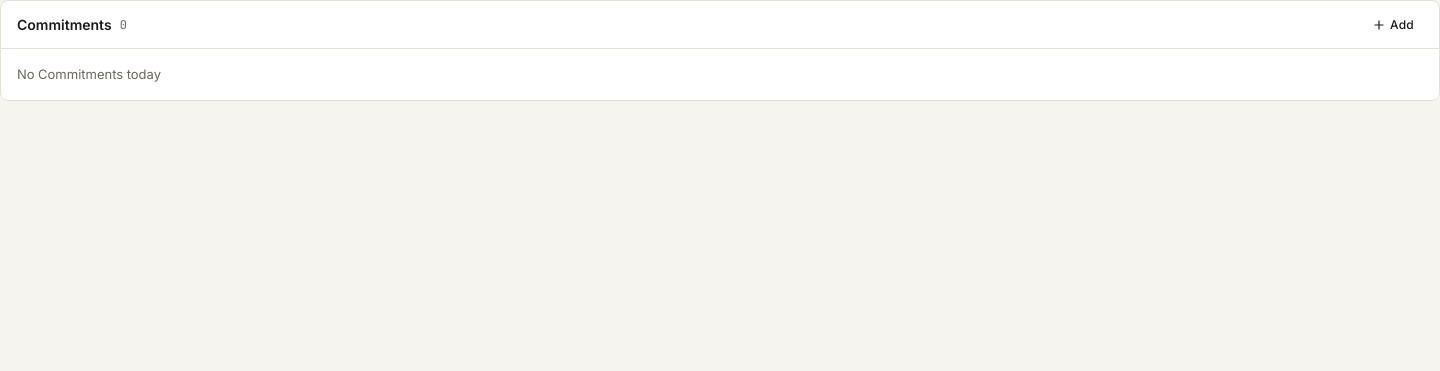
Test case: CommitmentsPanel › explains an overlap in plain English
Click the button "Add" at (1393, 24), box [1363, 10, 1423, 38]
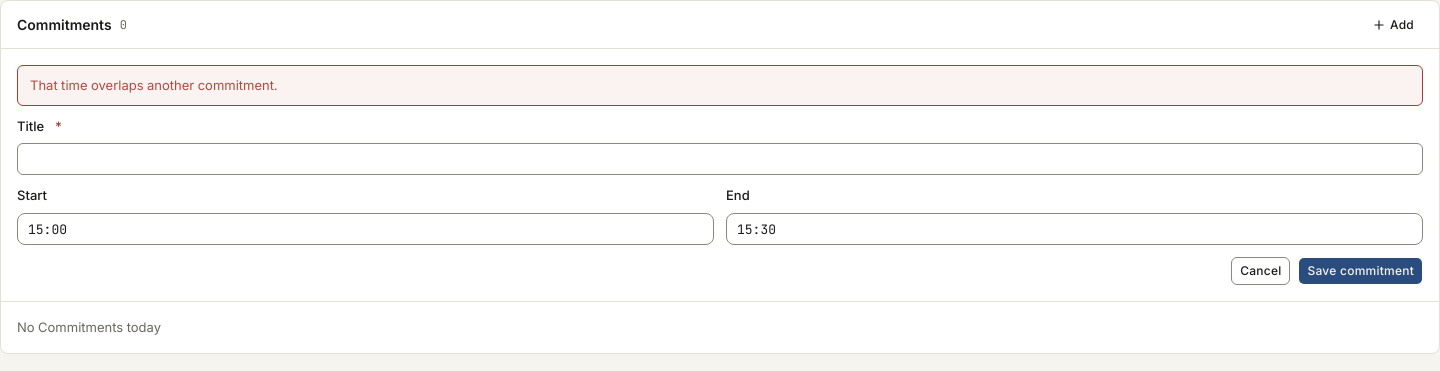
Expected: the message reads "That time overlaps another commitment.", [30, 77, 278, 93]
